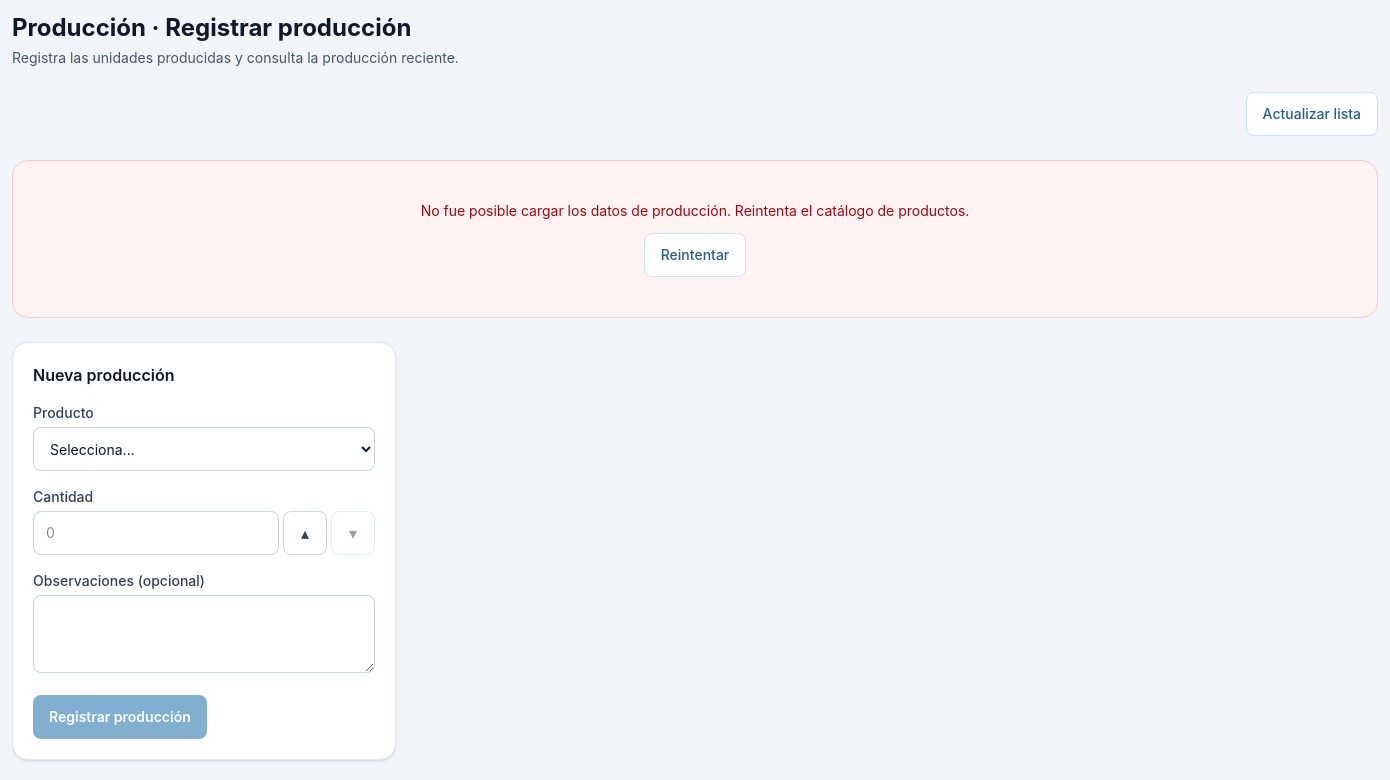
it: FE-05 · muestra error del catálogo sin presentarlo como producción vacía
This screenshot has width=1390, height=780.
expect the message shows "No fue posible cargar los datos de producción": met, box [421,202,969,219]
expect the text "No hay producciones registradas." is not shown: met
Click the button "Actualizar lista".
click(1312, 114)  # box [1246,92,1378,136]
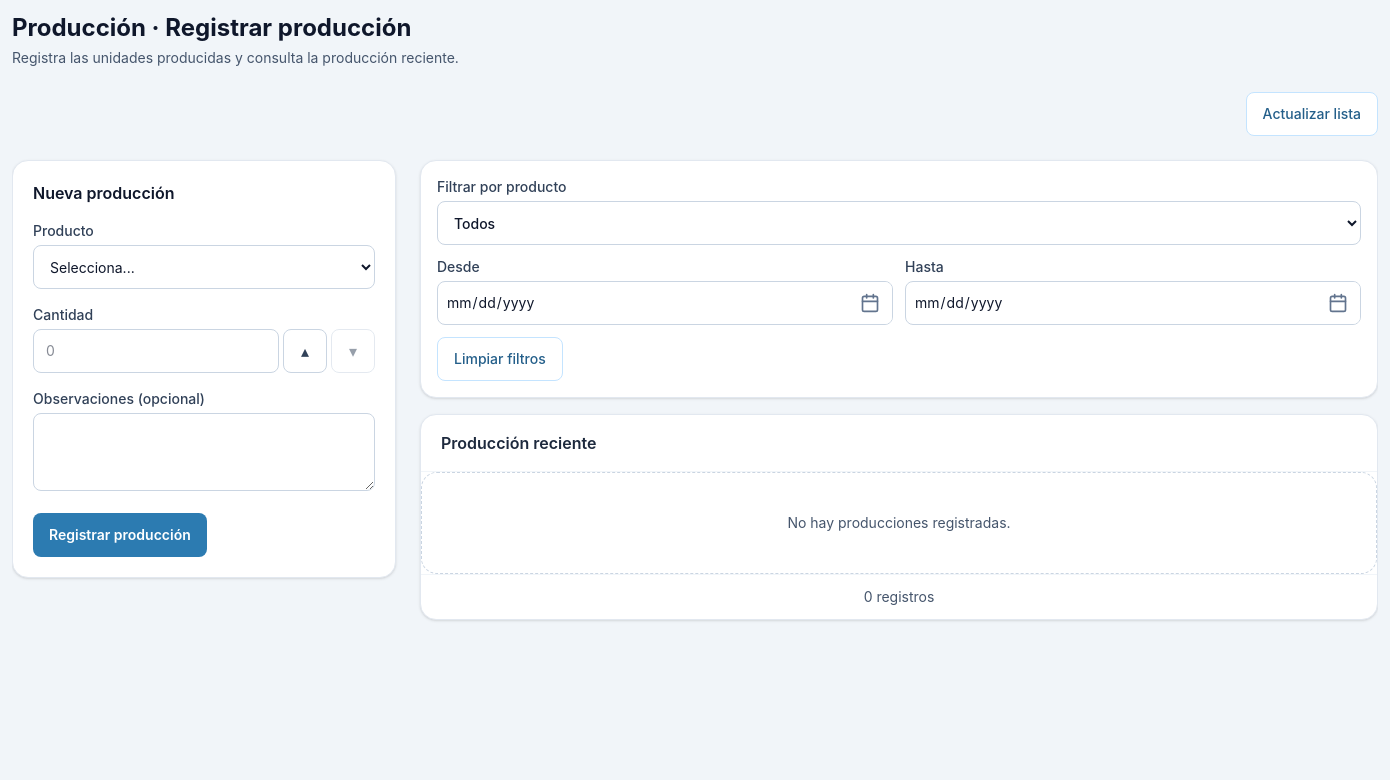
expect the text "No hay producciones registradas." is shown: met, box [787,513,1011,533]
